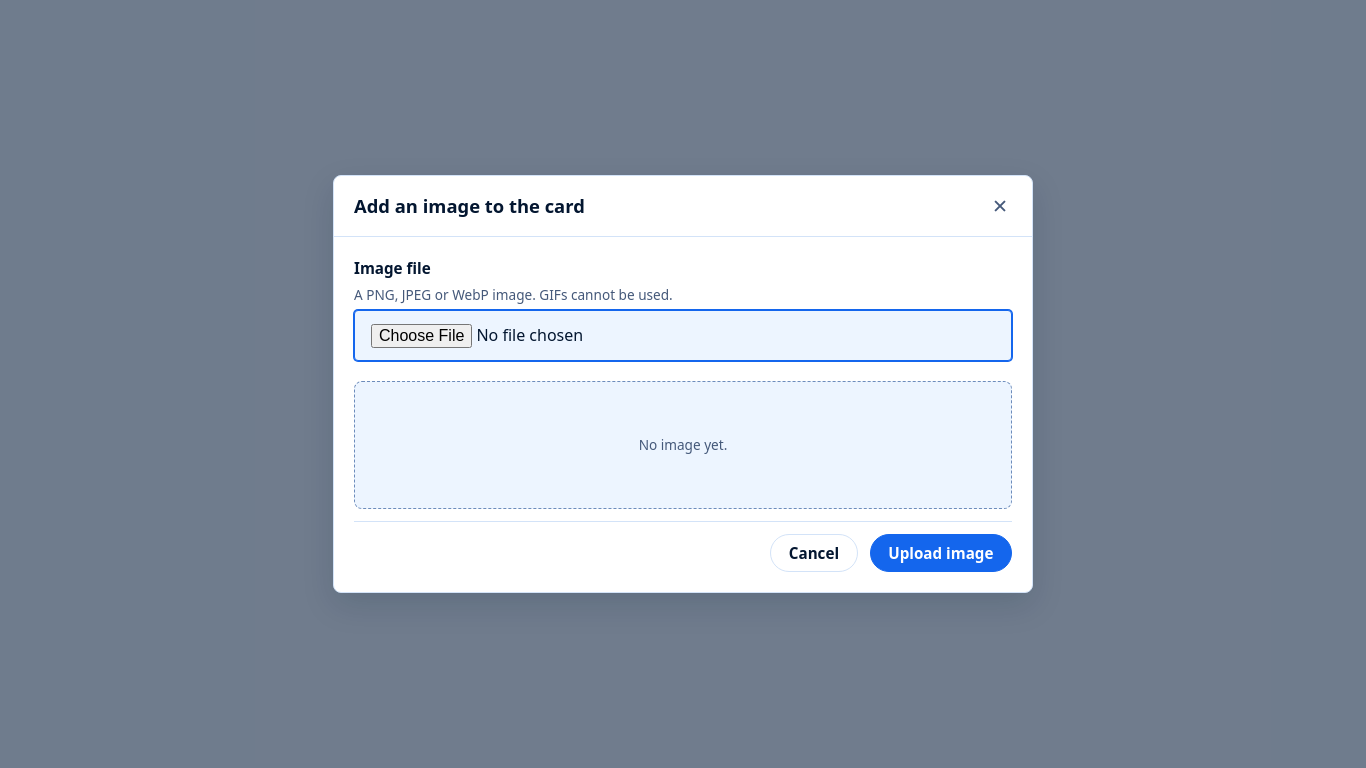
Test case: CardImageDialog › asks for a file rather than uploading nothing
What coordinates should you click on to do the following:
click the button "Upload image"
I would click on:
 (941, 553)
Its box is top-left (870, 534), bottom-right (1012, 572).
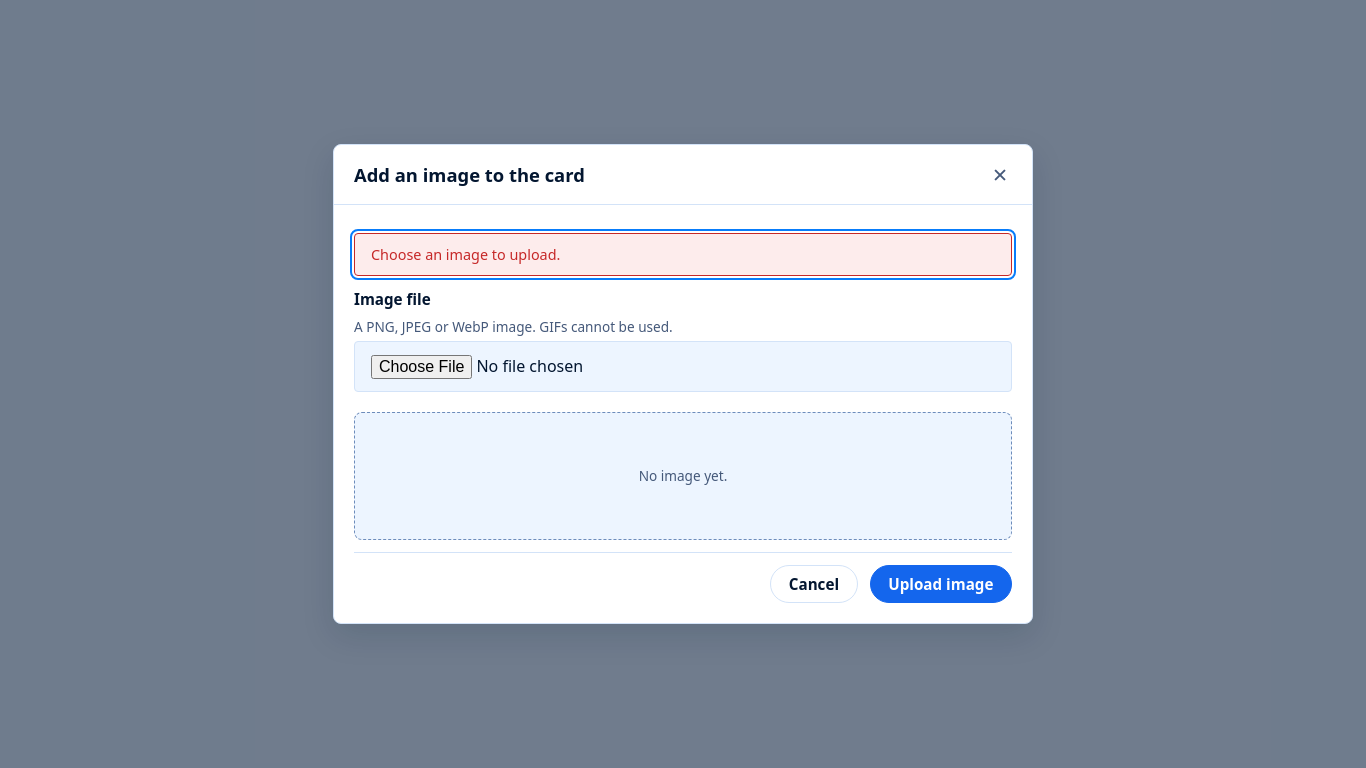
Check: the message reads "Choose an image to upload.", box top-left (371, 245), bottom-right (560, 264)
